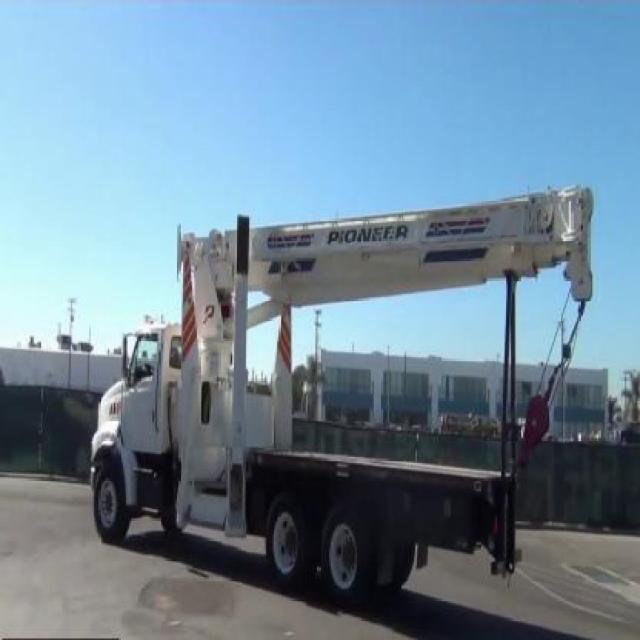Mobile Crane: (90, 176, 598, 609)
